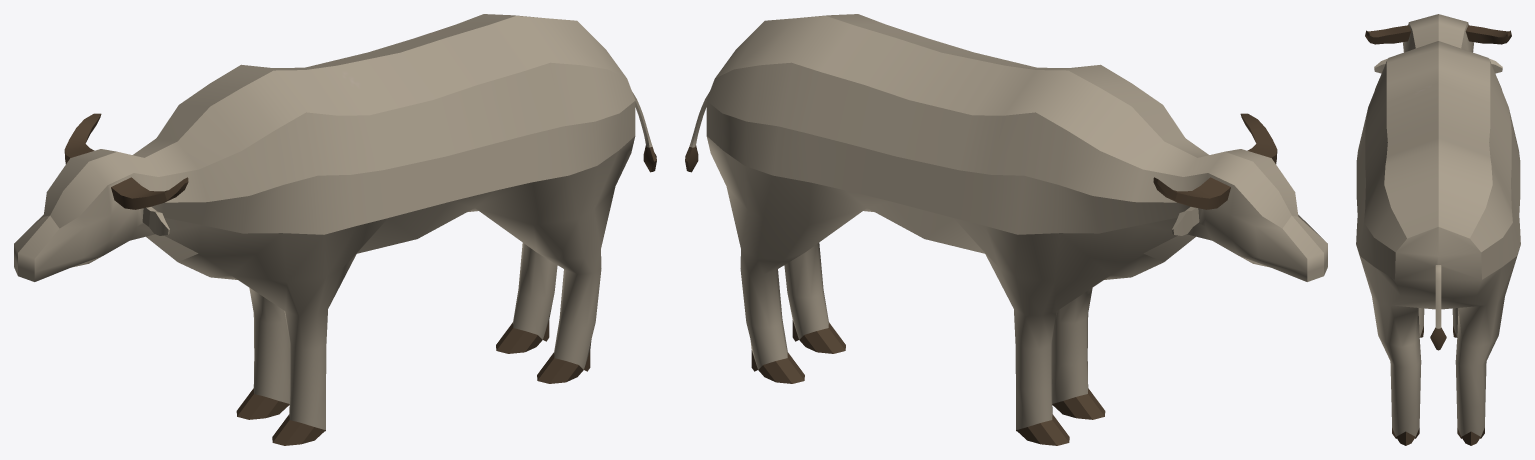
File: fbx_cow_1.fbx
3 renders of one model, left to right at view 1: azimuth 30°, elevation 25°; view 2: azimuth 150°, elevation 25°; view 3: azimuth 270°, elevation 25°, orthographic. The views are drawn at different scales.
Parts seen in each view (by area): view 1: fbx_cow_1; view 2: fbx_cow_1; view 3: fbx_cow_1.
Boxes of the visible parts, x1,y1,x2,y2 form: fbx_cow_1: (14,14,656,445); fbx_cow_1: (685,14,1327,445); fbx_cow_1: (1356,14,1520,445).
Bounding box in the file's own units: 2.37 × 1.26 × 0.666.
Materials: 1 (1 with a texture image).
